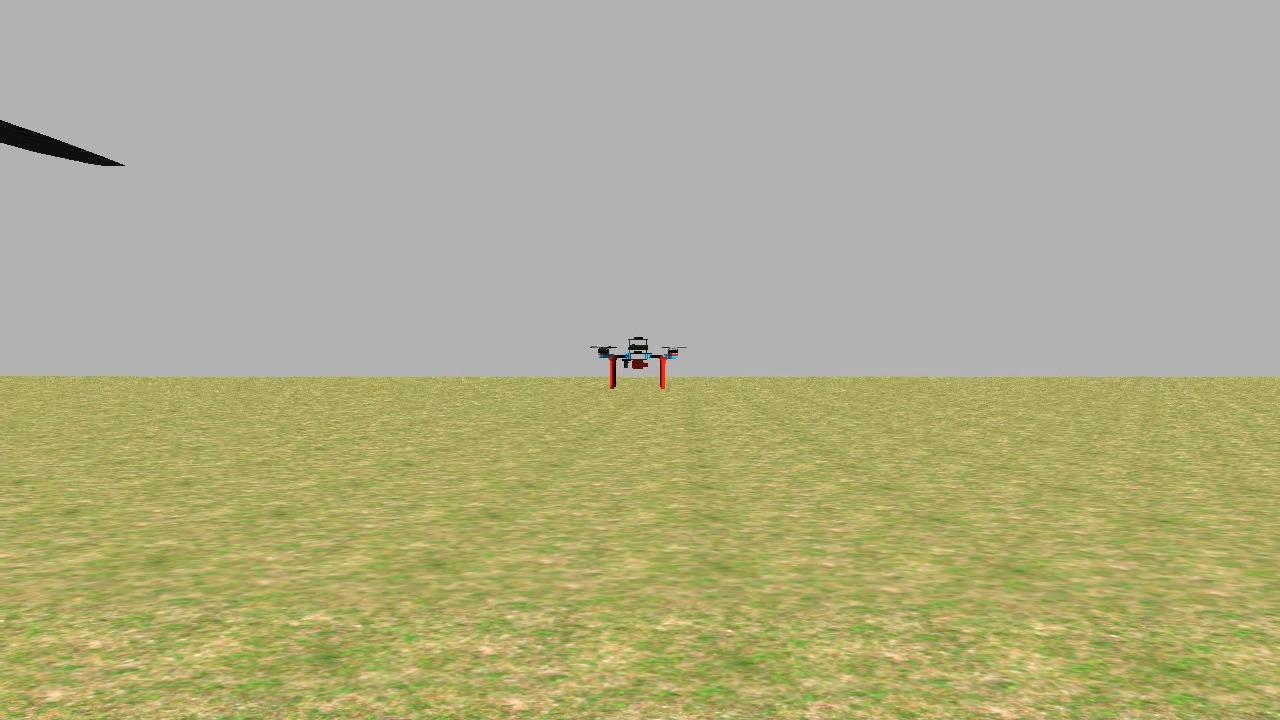UAV: (573, 327, 694, 388)
